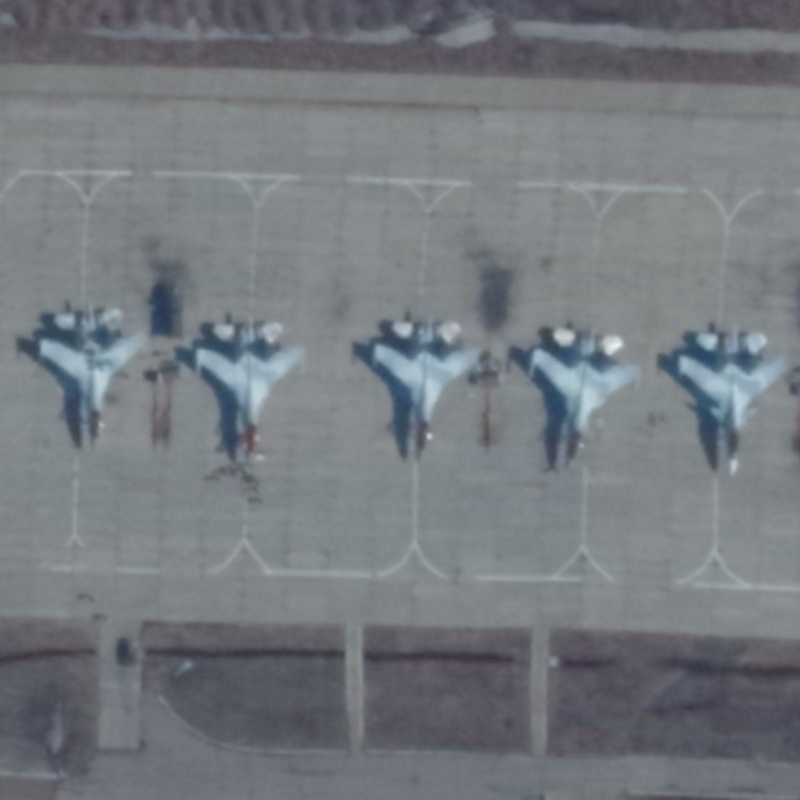A1: (190, 312, 308, 473), (521, 322, 645, 473), (34, 301, 151, 458), (367, 314, 485, 463)
A19: (674, 325, 786, 479)
